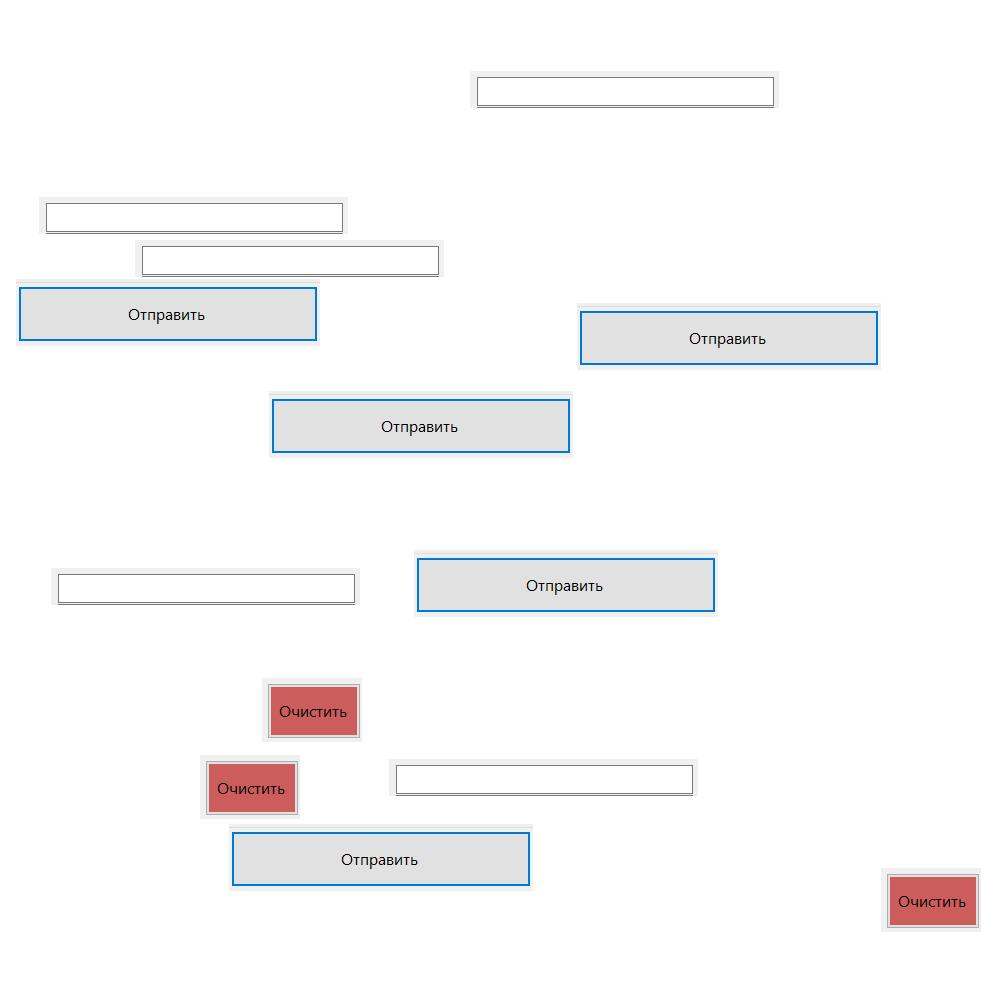Button: (414, 550, 718, 617), (269, 391, 573, 458), (16, 279, 320, 346), (577, 303, 881, 370), (229, 824, 533, 891), (881, 868, 981, 932), (262, 678, 362, 742), (200, 755, 300, 819)
EditText-: (135, 240, 444, 277), (389, 759, 698, 796), (470, 71, 779, 108), (51, 568, 360, 605), (39, 197, 348, 234)
